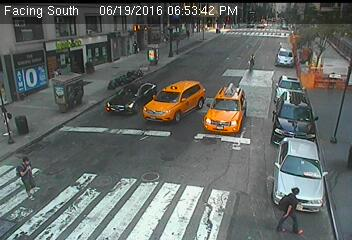neg: (32, 63, 62, 102), (202, 61, 226, 94), (119, 71, 138, 95)
pos: (272, 182, 311, 234), (6, 152, 44, 203)
